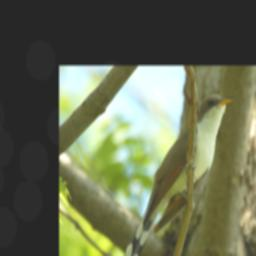Cuckoo: (121, 94, 234, 256)
